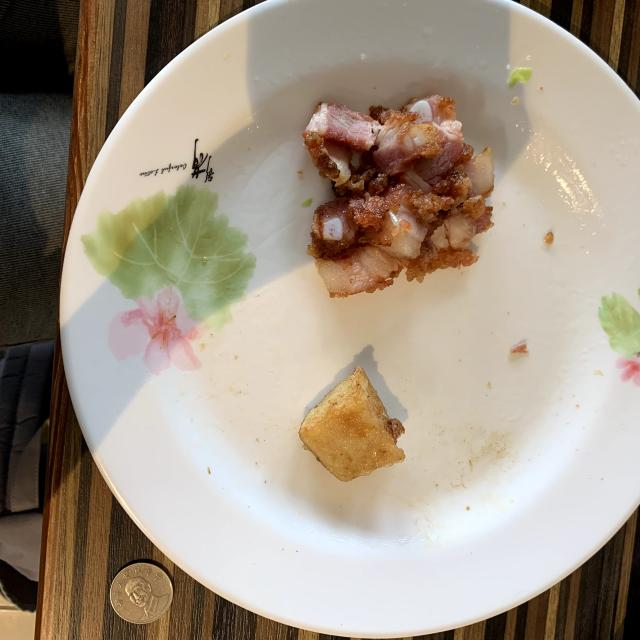coin: (110, 562, 172, 624)
fried potato: (299, 366, 405, 481)
red grilled pork: (305, 95, 494, 296)
